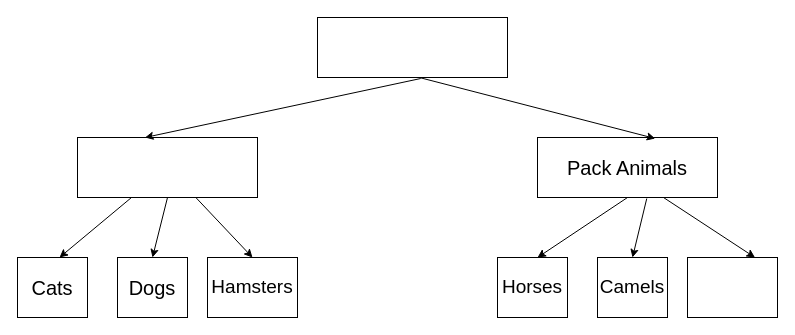
Some shapes in this 795 by 335 pixel diagram are drawn without their labels. The shapes that lost their labels are listed below. From the top down, each one's centre as x and y in pixels, then its label:
point 412,47: Human Friends
point 167,167: Pets
point 732,287: Donkeys
